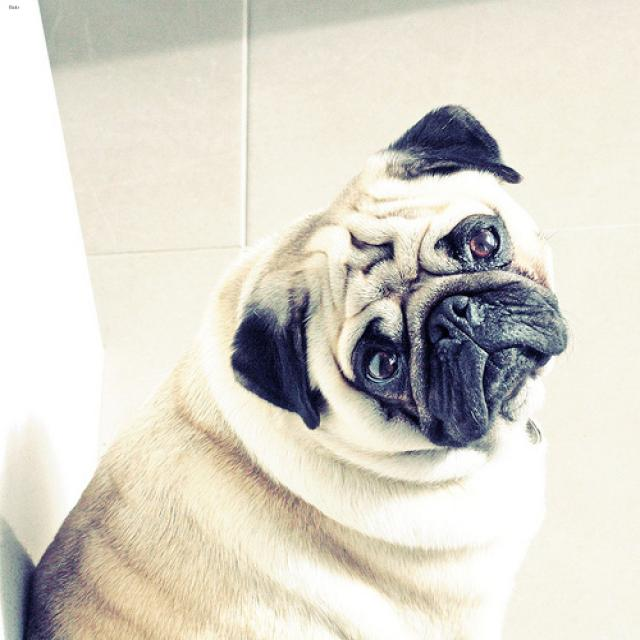dog-pug: (10, 96, 579, 637)
